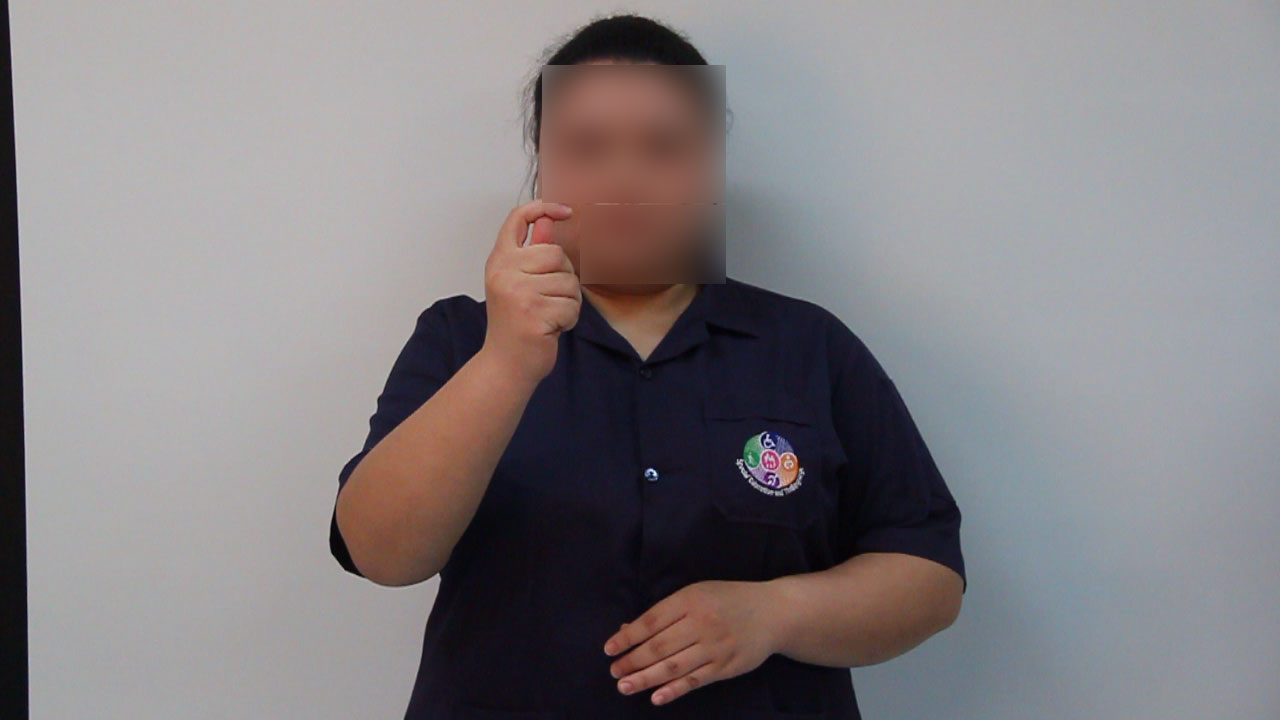or: (480, 197, 588, 384)
